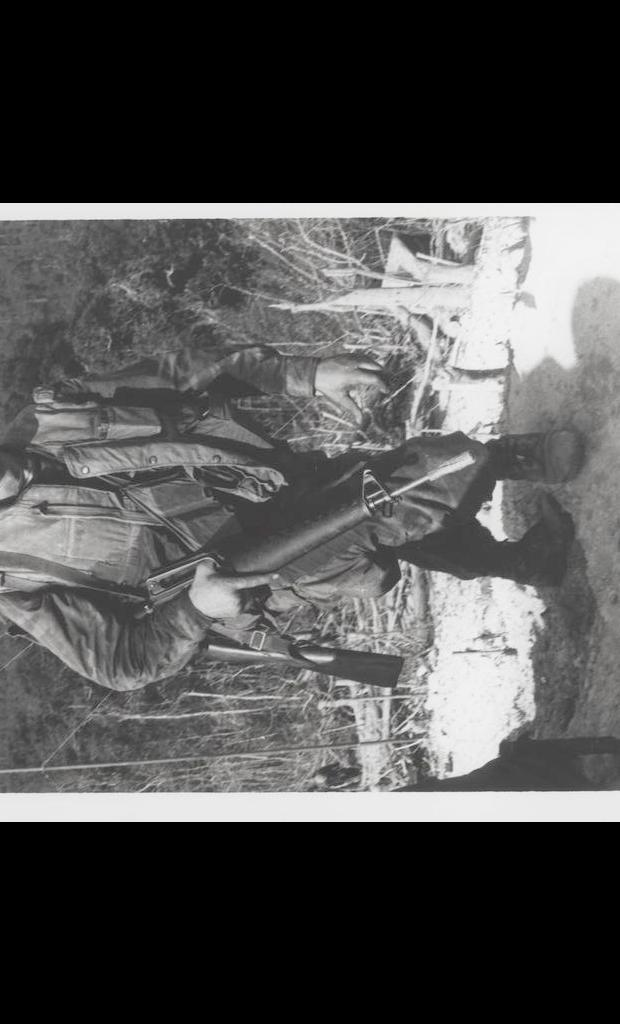gun: (130, 452, 480, 623)
